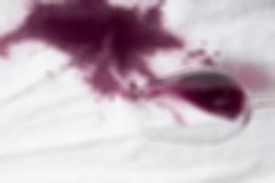wine: (14, 0, 165, 55), (78, 27, 181, 101)
